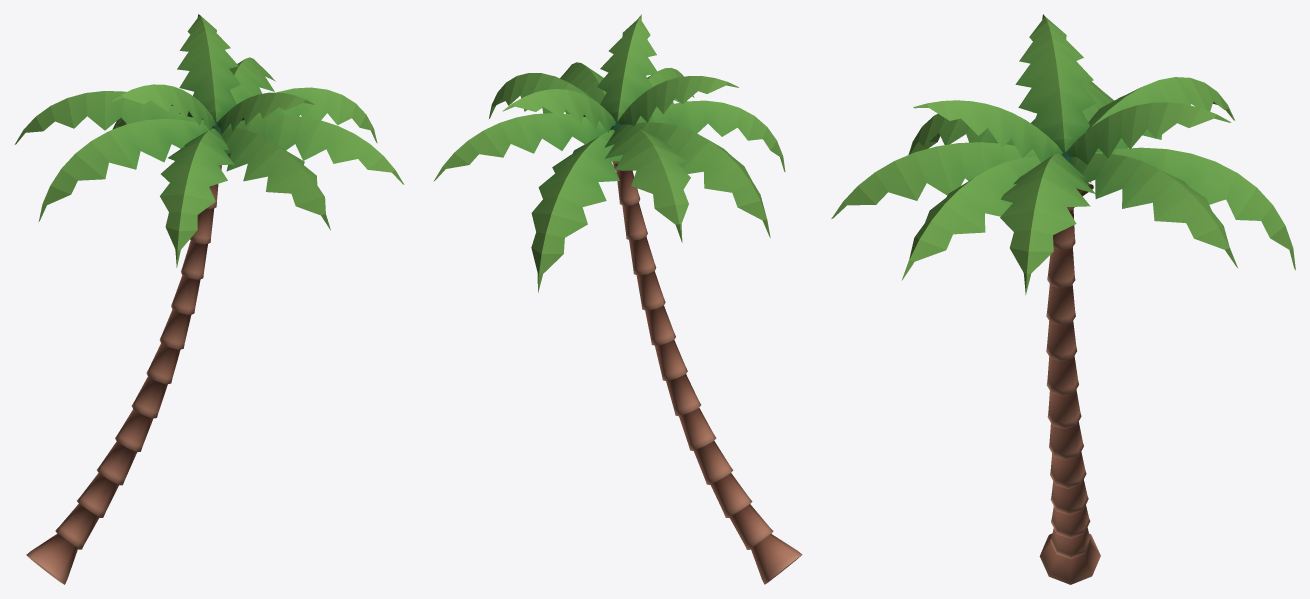
File: palm_lean.glb
The picture shows the model from 3 angles, left to right: view 1: azimuth 30°, elevation 25°; view 2: azimuth 150°, elevation 25°; view 3: azimuth 270°, elevation 25°; orthographic projection. The views are drawn at different scales.
Visible parts, largest first — view 1: palm_lean; view 2: palm_lean; view 3: palm_lean.
Part boxes in pixels (left/top/right/bottom): palm_lean: left=14, top=14, right=404, bottom=584; palm_lean: left=433, top=14, right=802, bottom=584; palm_lean: left=831, top=14, right=1295, bottom=584.
Size of the model in its own units: 6.38 by 8.97 by 6.28.
